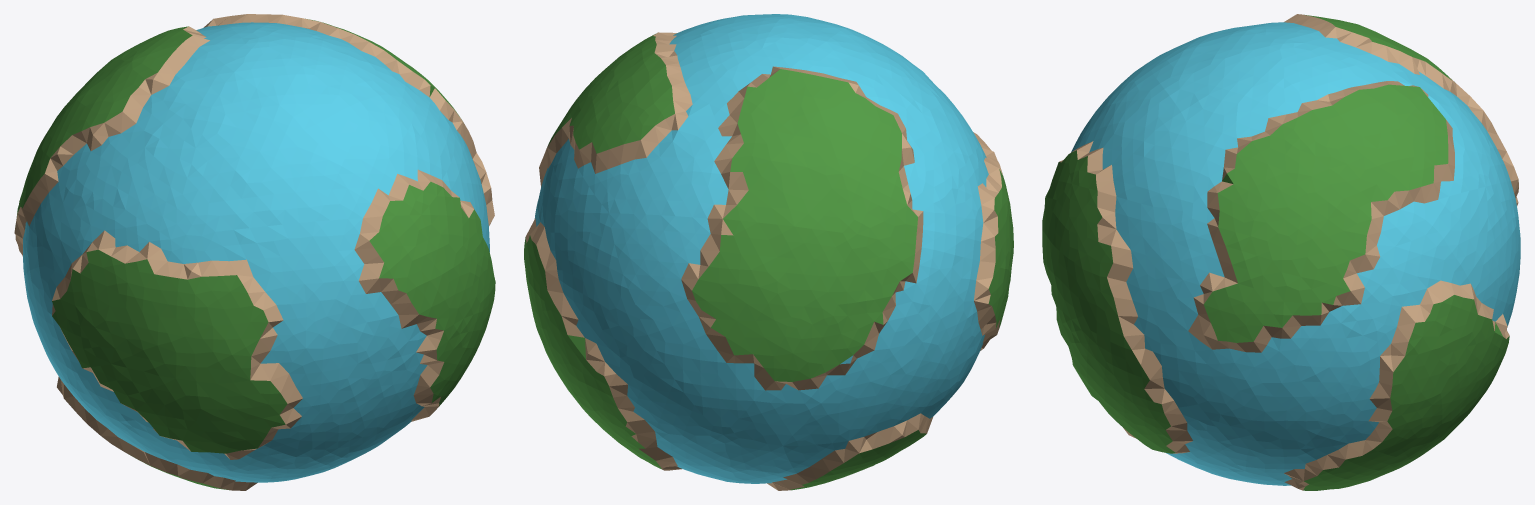
Rendered from World2.fbx.
3 views of the same model, side by side, from view 1: azimuth 30°, elevation 25°; view 2: azimuth 150°, elevation 25°; view 3: azimuth 270°, elevation 25° (orthographic).
Parts seen in each view (by area): view 1: Icosphere; view 2: Icosphere; view 3: Icosphere.
Boxes of the visible parts, x1,y1,x2,y2 form: Icosphere: (14,14,495,490); Icosphere: (524,14,1013,490); Icosphere: (1042,14,1520,490).
Bounding box in the file's own units: 2282 × 2198 × 2230.
